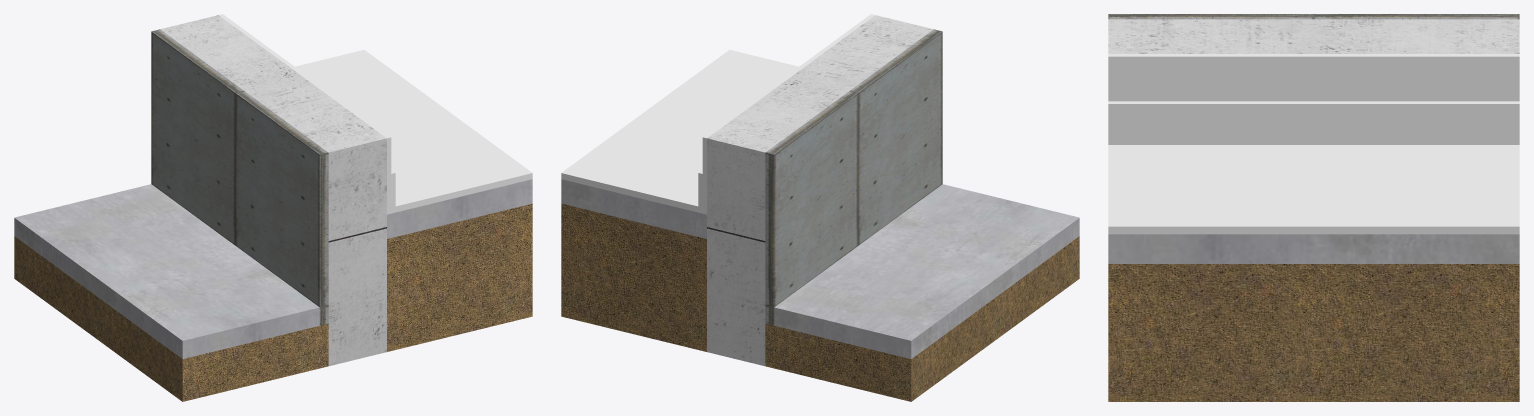
Rendered from faced-plinth.glb.
3 views of the same model, side by side, from view 1: azimuth 30°, elevation 25°; view 2: azimuth 150°, elevation 25°; view 3: azimuth 270°, elevation 25° (orthographic). The views are drawn at different scales.
Visible parts, largest first — view 1: 垫层, 室内外回填土, 贴面, 墙体, 其余; view 2: 垫层, 室内外回填土, 贴面, 墙体, 其余; view 3: 其余, 室内外回填土, 墙体, 垫层, 贴面.
Boxes of the visible parts, x1=… form: 垫层: x1=14, y1=179, x2=532, y2=358; 室内外回填土: x1=14, y1=203, x2=532, y2=401; 贴面: x1=151, y1=29, x2=328, y2=325; 墙体: x1=160, y1=15, x2=386, y2=366; 其余: x1=219, y1=14, x2=532, y2=214; 垫层: x1=561, y1=179, x2=1079, y2=358; 室内外回填土: x1=561, y1=203, x2=1079, y2=401; 贴面: x1=765, y1=29, x2=942, y2=325; 墙体: x1=707, y1=15, x2=933, y2=366; 其余: x1=561, y1=14, x2=874, y2=214; 其余: x1=1108, y1=54, x2=1519, y2=234; 室内外回填土: x1=1108, y1=264, x2=1519, y2=401; 墙体: x1=1108, y1=19, x2=1519, y2=53; 垫层: x1=1108, y1=234, x2=1519, y2=263; 贴面: x1=1108, y1=14, x2=1519, y2=19.
Size of what is drawn, in the model's own units: 1.2 by 0.7 by 1.
Materials: 6 (5 with a texture image).
